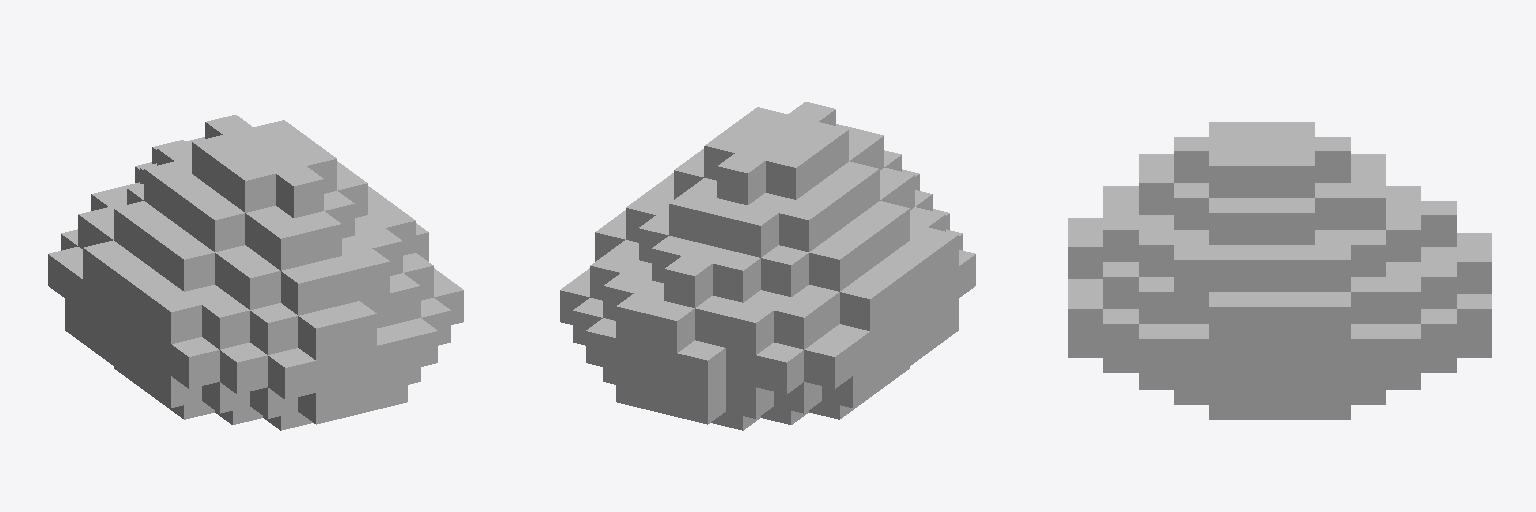
The model's file is Rock.obj.
3 views of the same model, side by side, from view 1: azimuth 30°, elevation 25°; view 2: azimuth 150°, elevation 25°; view 3: azimuth 270°, elevation 25° (orthographic).
Bounding box in the file's own units: 9 × 7 × 12.